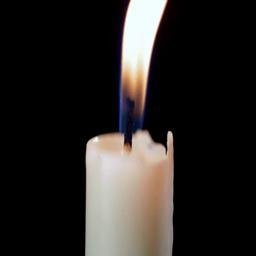fire: (119, 0, 167, 132)
